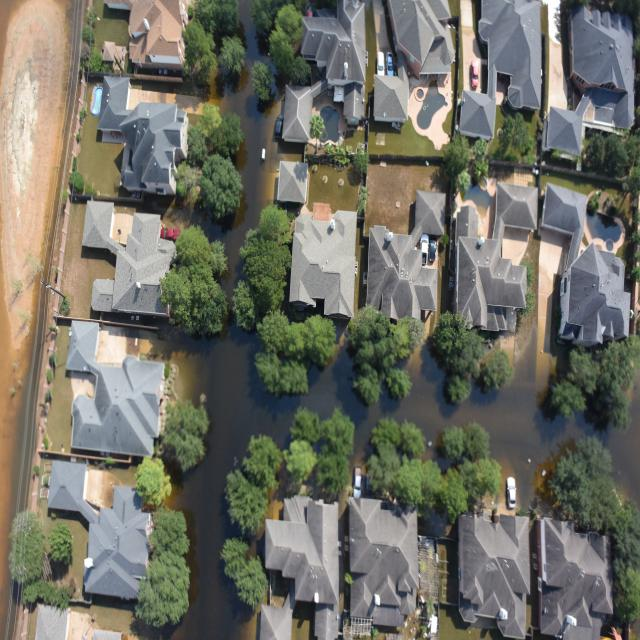fire: (154, 315, 430, 638), (356, 317, 598, 508), (215, 0, 304, 297), (191, 87, 301, 300), (599, 373, 640, 507), (608, 372, 640, 509)
